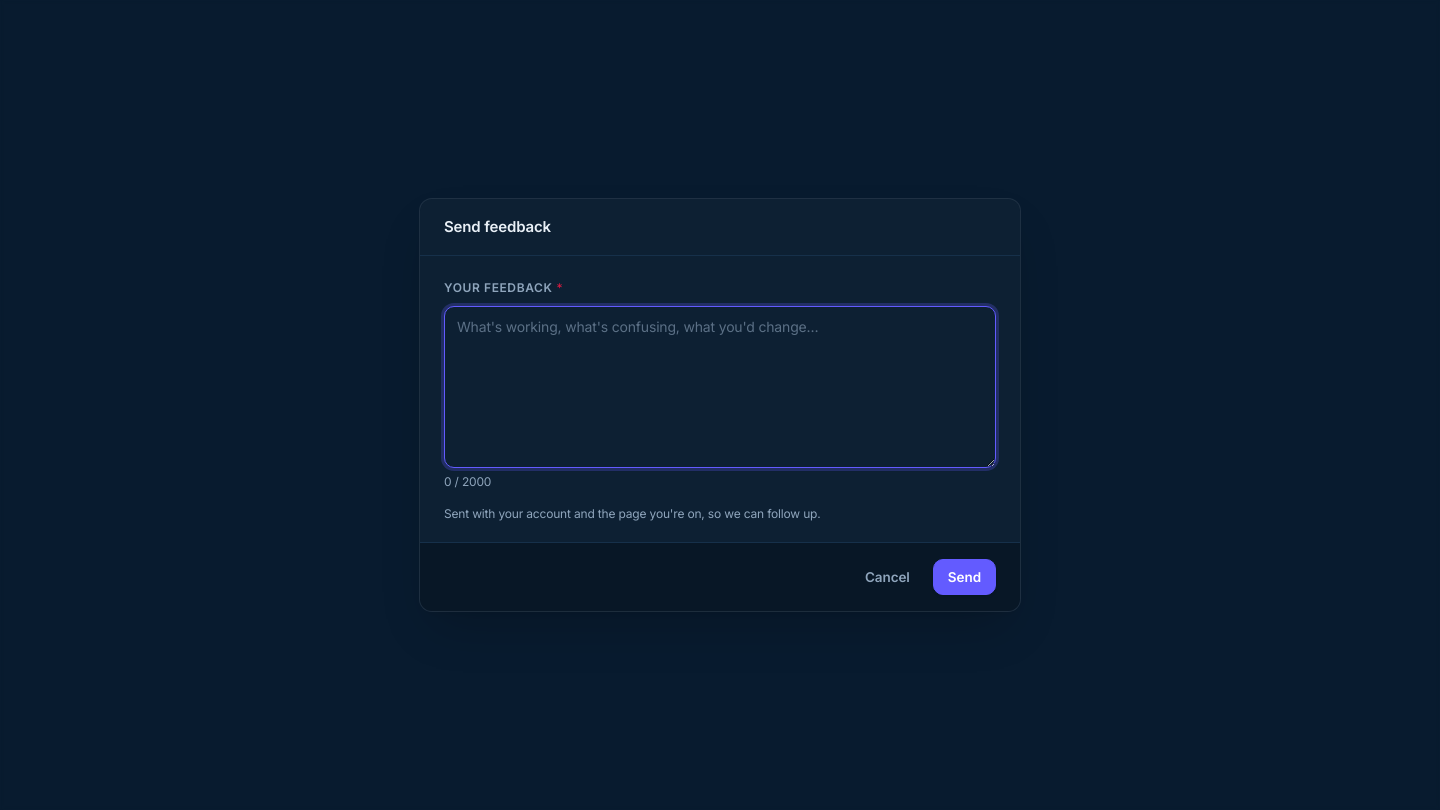
Scenario: FeedbackDialog › shows the server's message, such as the rate limit
Type "again" into the text box labelled "Your feedback*" at (720, 387), box [444,306,996,468]
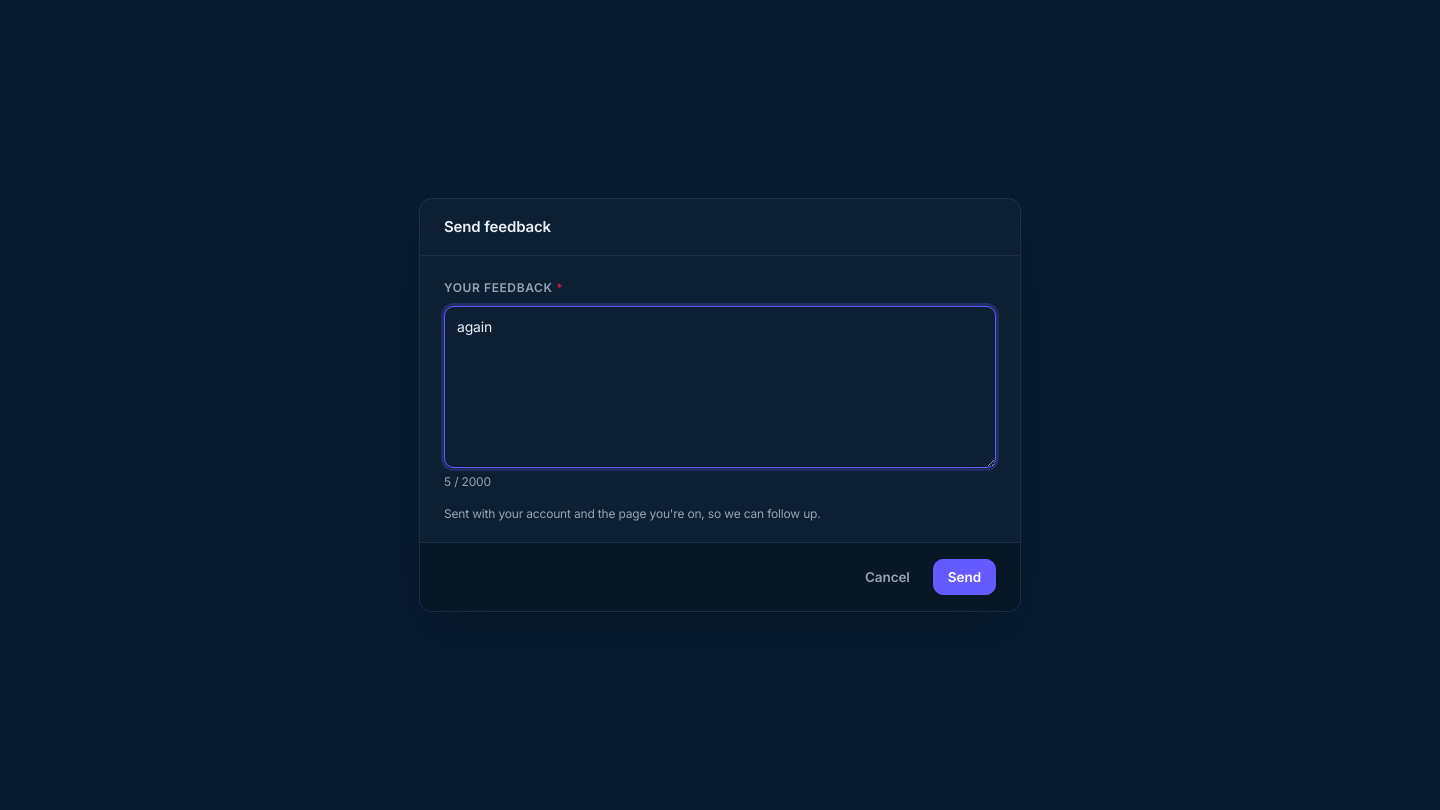
Click the button "Send" at (964, 577), box [933,559,996,595]
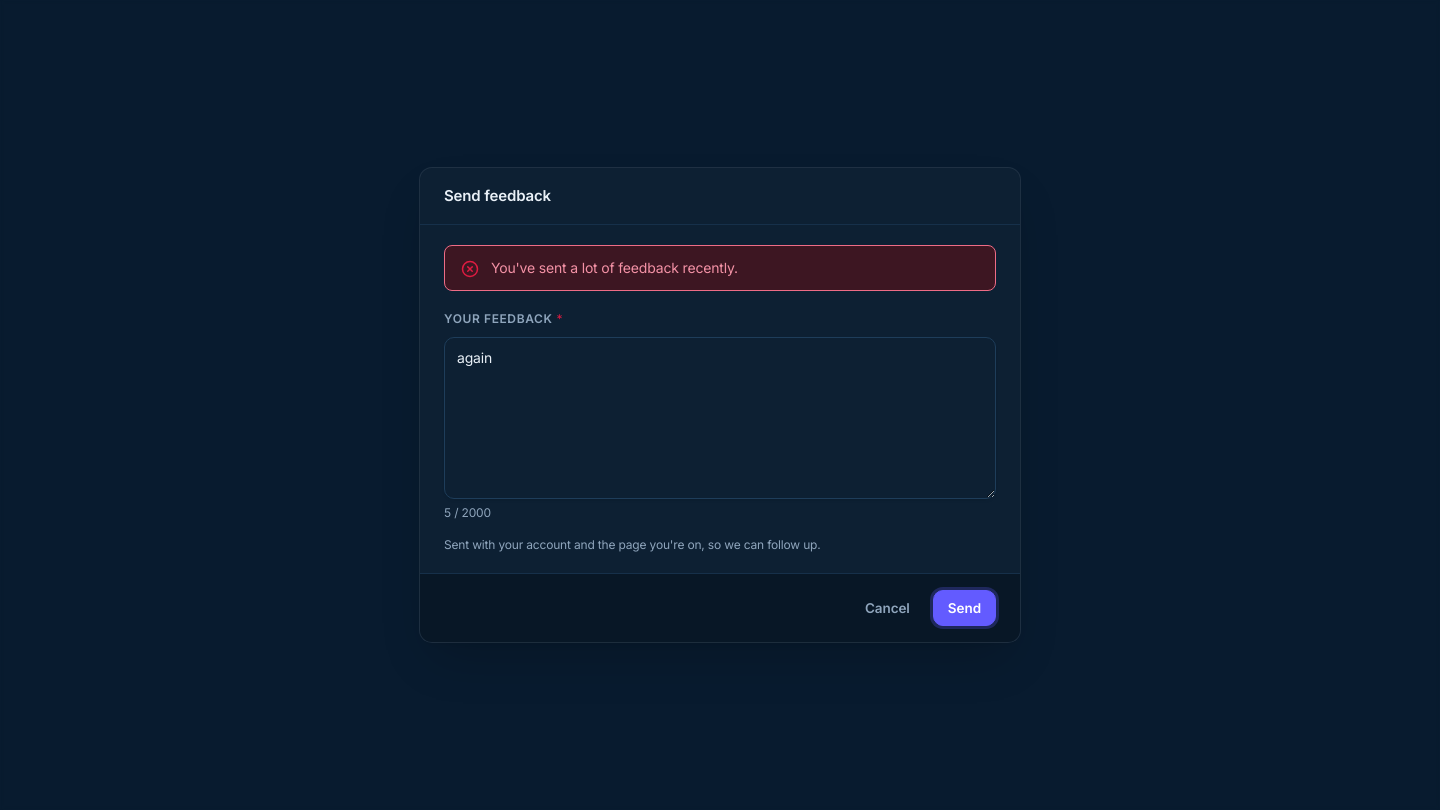
Expected: the text "You've sent a lot of feedback recently." is shown, [491,259,738,276]
